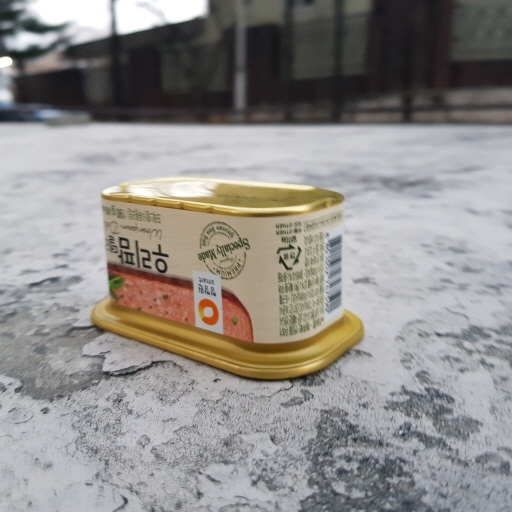Metal_2: (88, 172, 367, 380)
